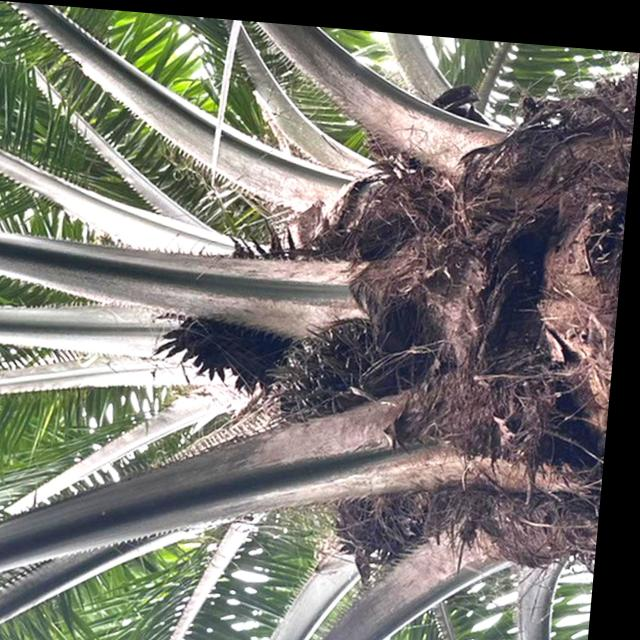unripe: (266, 299, 415, 442)
